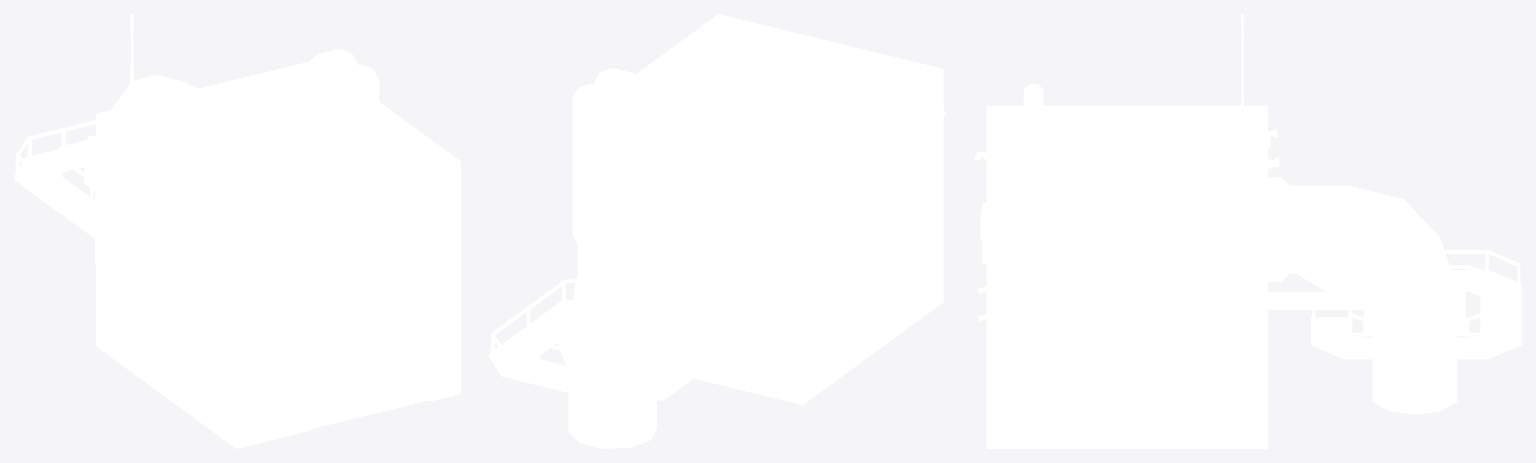
Rendered from water-station-small-ground.glb.
3 views of the same model, side by side, from view 1: azimuth 30°, elevation 25°; view 2: azimuth 150°, elevation 25°; view 3: azimuth 270°, elevation 25° (orthographic).
Visible parts, largest first — view 1: water-station-small-ground; view 2: water-station-small-ground; view 3: water-station-small-ground.
Boxes of the visible parts, bbox=[...] form: water-station-small-ground: bbox=[14, 14, 460, 448]; water-station-small-ground: bbox=[489, 14, 945, 448]; water-station-small-ground: bbox=[974, 14, 1521, 448].
Size of the model in its own units: 10.72 by 12.97 by 19.13.
1 material, 1 textured.
